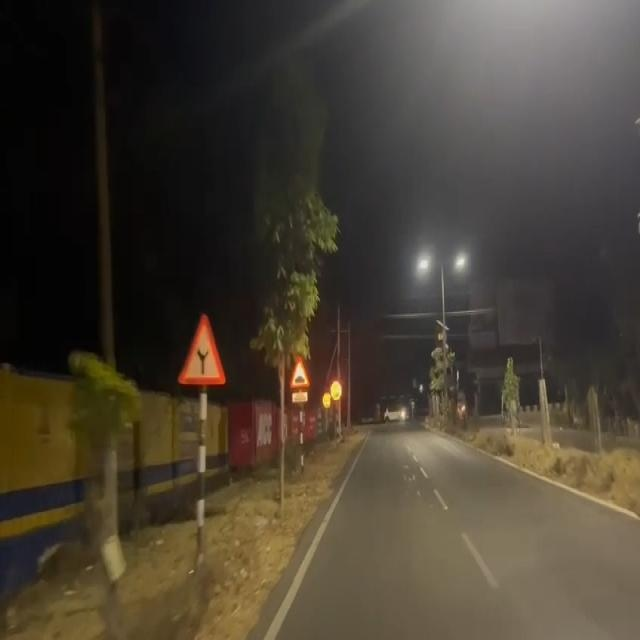bien_nguy_hiem: (177, 308, 227, 389), (290, 354, 310, 391)
